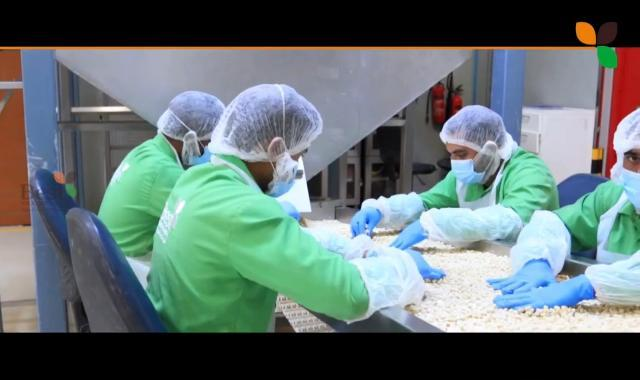Apron: (454, 172, 509, 211)
Glove: (493, 271, 596, 312), (595, 195, 640, 265), (486, 258, 558, 294), (387, 219, 431, 251), (345, 204, 385, 239), (406, 250, 447, 282)
Hairnet: (207, 82, 323, 162), (455, 91, 545, 143), (157, 91, 229, 137), (606, 107, 640, 153)
Mask: (265, 140, 300, 196), (612, 166, 640, 216), (179, 127, 202, 165), (450, 158, 482, 181)
